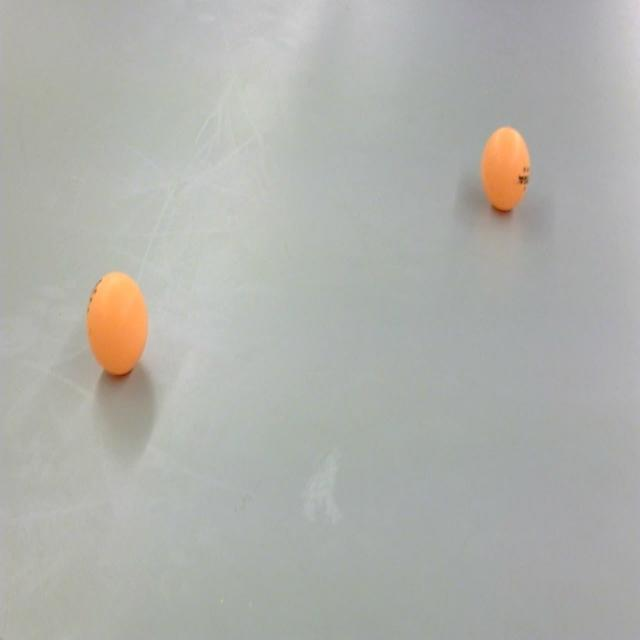ball: (84, 268, 151, 379), (481, 126, 532, 214)
